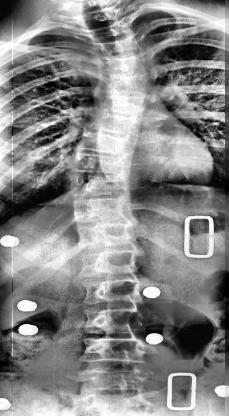Vertebrae: (80, 334, 152, 370), (76, 278, 140, 314), (79, 366, 151, 398), (76, 249, 140, 283), (74, 220, 140, 252), (71, 196, 133, 226), (72, 150, 138, 178), (68, 170, 130, 198), (80, 309, 142, 337), (84, 112, 146, 138), (76, 130, 138, 154), (95, 90, 151, 116), (99, 74, 155, 98), (99, 53, 153, 76), (96, 35, 146, 59), (88, 22, 138, 44), (78, 7, 126, 29)
